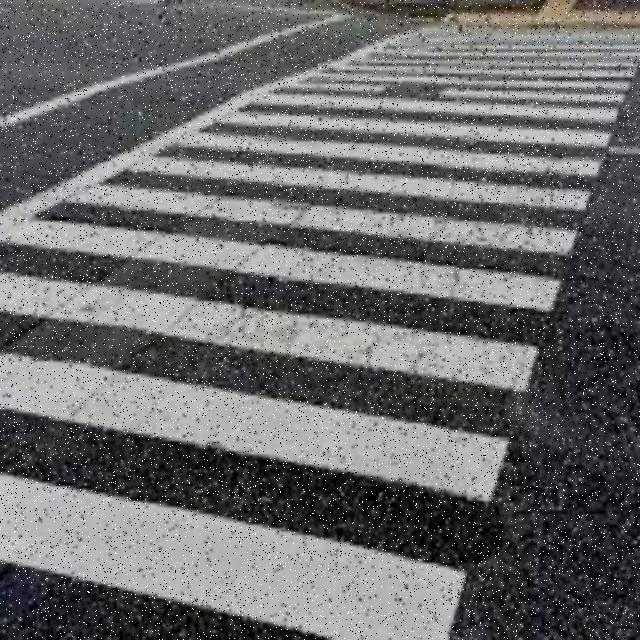Pedestrian crosswalk: (2, 20, 640, 620)
